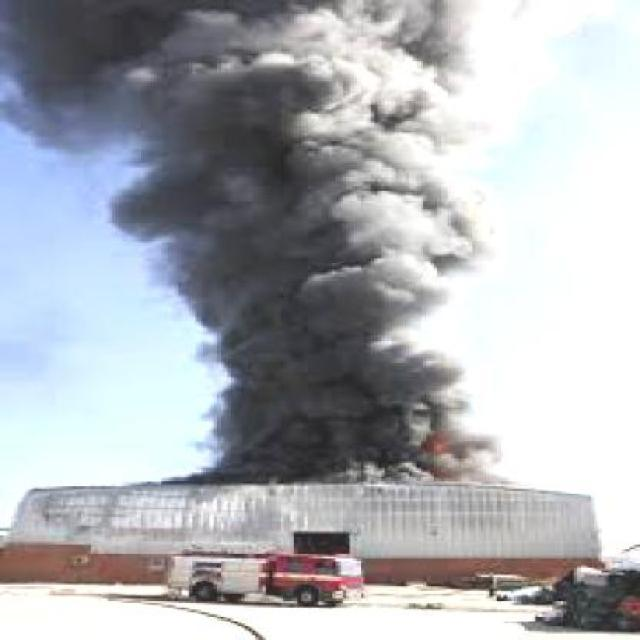Smoke: (0, 0, 500, 482)
